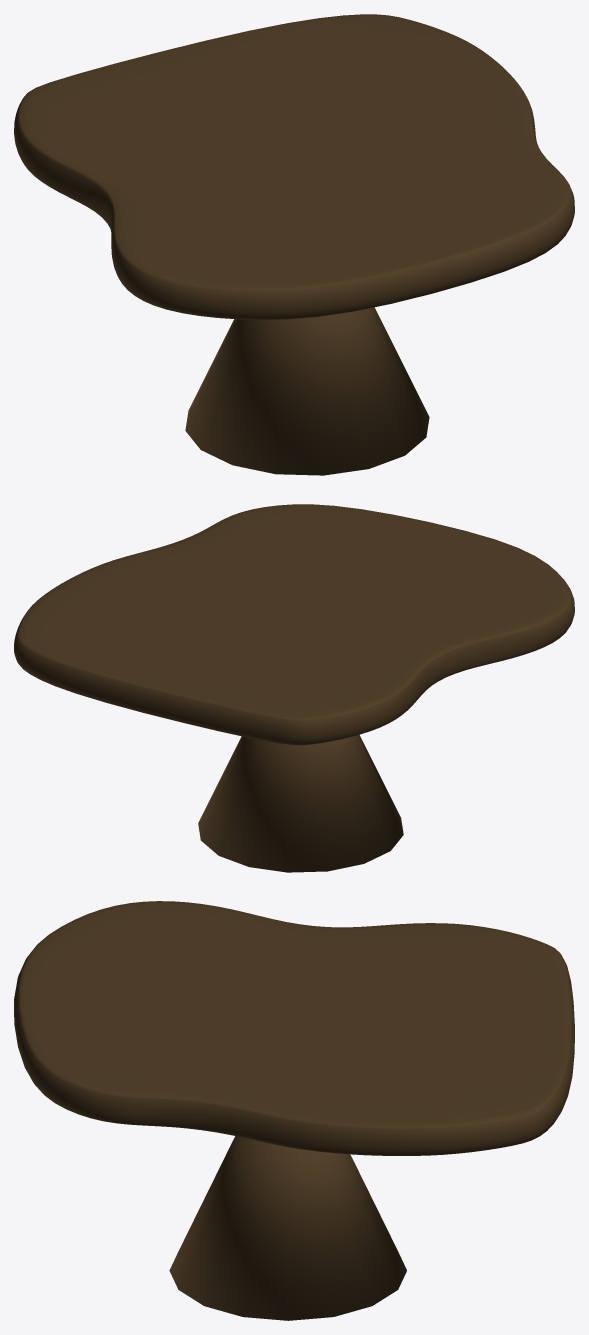
The model's file is SM_Tables.fbx.
3 renders of one model, top to bottom at view 1: azimuth 30°, elevation 25°; view 2: azimuth 150°, elevation 25°; view 3: azimuth 270°, elevation 25°, orthographic. The views are drawn at different scales.
Visible parts, largest first — view 1: ShroomTableTop.002; view 2: ShroomTableTop.002; view 3: ShroomTableTop.002.
Boxes of the visible parts, box(x1,y1,x2,y2) form: ShroomTableTop.002: box(14, 14, 574, 475); ShroomTableTop.002: box(14, 504, 574, 872); ShroomTableTop.002: box(14, 901, 574, 1320).
Bounding box in the file's own units: 190 × 99.1 × 195.
